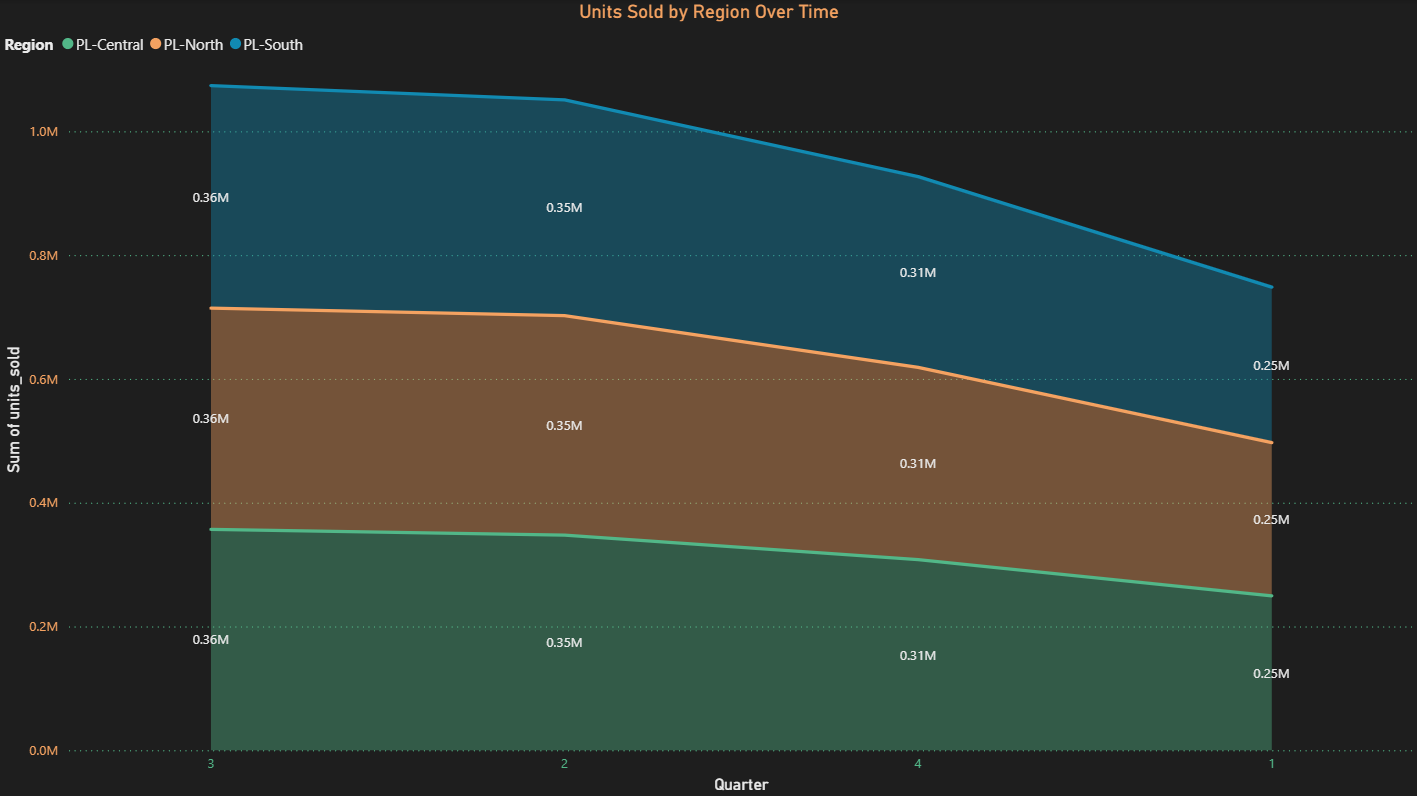

Layout of this report page (visuals, bound fields, positions):
{"tool":"powerbi","page":{"name":"Page 7","canvas":[1280,720],"ordinal":2},"visuals":[{"type":"stackedAreaChart","title":"Units Sold by Region Over Time","fields":{"Y":["Sum(FMCG_2022_2024.units_sold)"],"Series":["FMCG_2022_2024.region"],"Category":["FMCG_2022_2024.Quarter"]},"box":[0,0,1280.4,720.2],"z":0}]}

Visuals, with their boxes in screenshot pixels (x1, y1, x2, y2), scaled from the page's 1280x720 canvas onto the 1417x796 screenshot:
"Units Sold by Region Over Time" stackedAreaChart: x1=0, y1=0, x2=1416, y2=795
